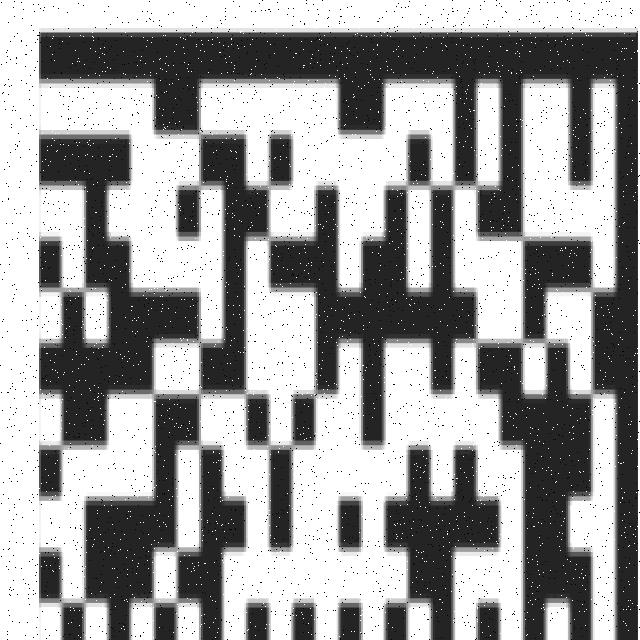datamatrix: (31, 9, 640, 640)
